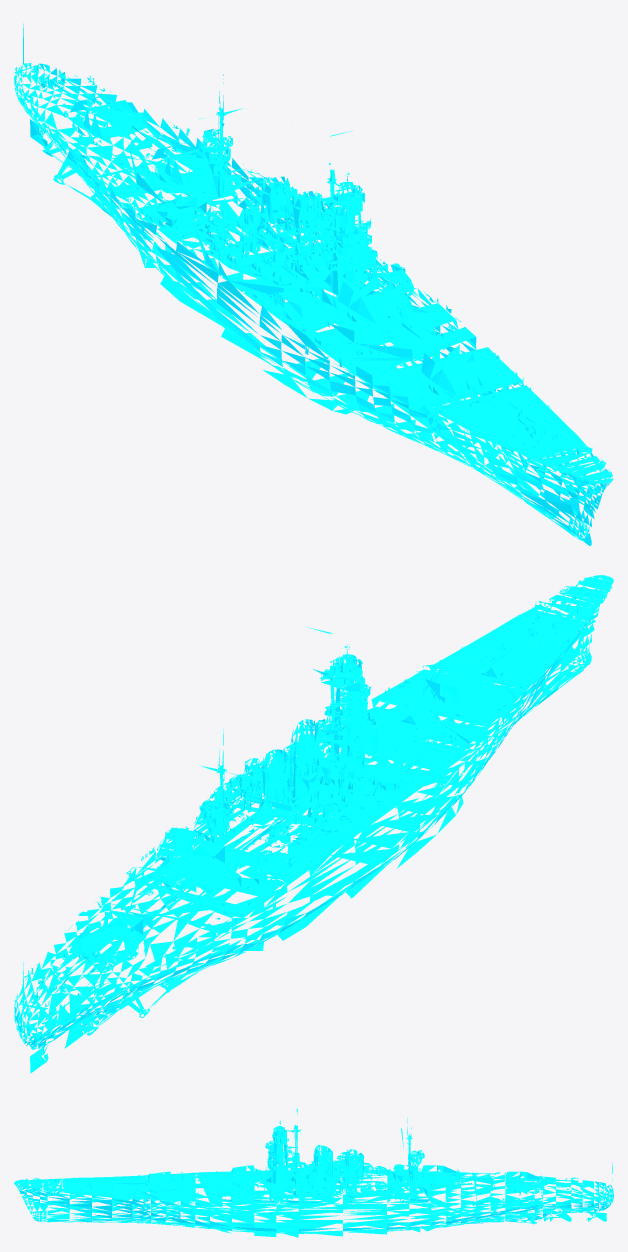
Rendered from Marcantonio_Colonna.glb.
3 renders of one model, top to bottom at view 1: azimuth 30°, elevation 25°; view 2: azimuth 150°, elevation 25°; view 3: azimuth 270°, elevation 25°, orthographic. The views are drawn at different scales.
Bounding box in the file's own units: 1.98 × 2.98 × 14.3.
